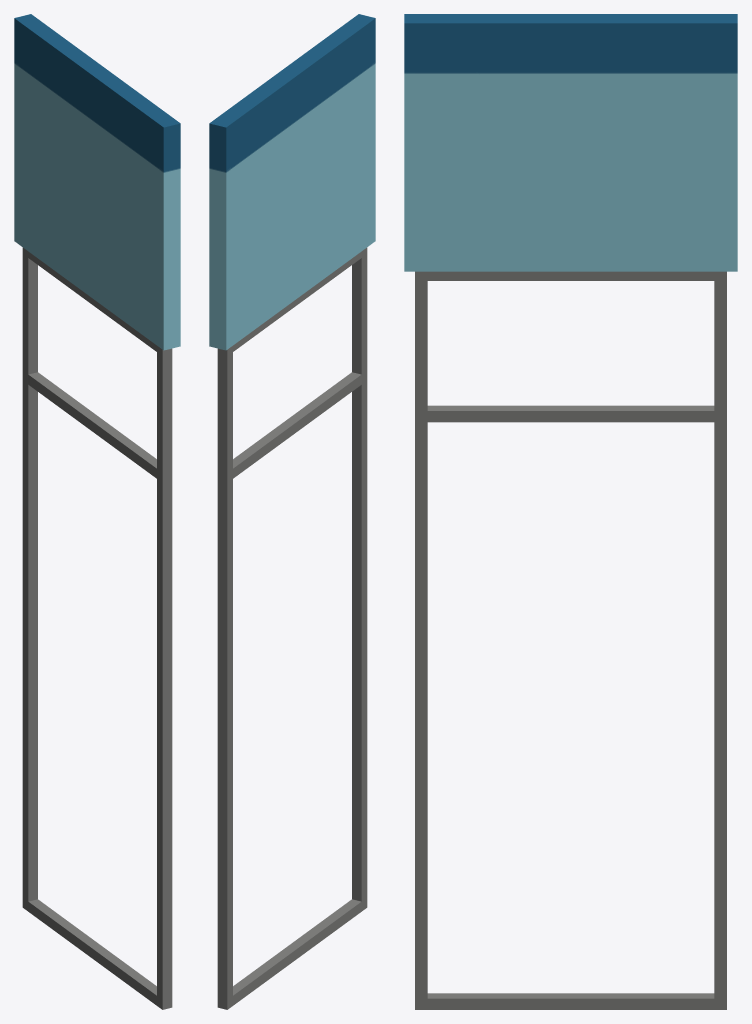
Rendered from GlassWindow_Small.fbx.
3 renders of one model, left to right at view 1: azimuth 30°, elevation 25°; view 2: azimuth 150°, elevation 25°; view 3: azimuth 270°, elevation 25°, orthographic. The views are drawn at different scales.
Visible parts, largest first — view 1: GlassWindow_Small; view 2: GlassWindow_Small; view 3: GlassWindow_Small.
Part boxes in pixels (x1,y1,x2,y2): GlassWindow_Small: [14, 14, 180, 1009]; GlassWindow_Small: [209, 14, 375, 1009]; GlassWindow_Small: [404, 14, 737, 1009].
Size of the model in its own units: 7 by 350 by 107.
